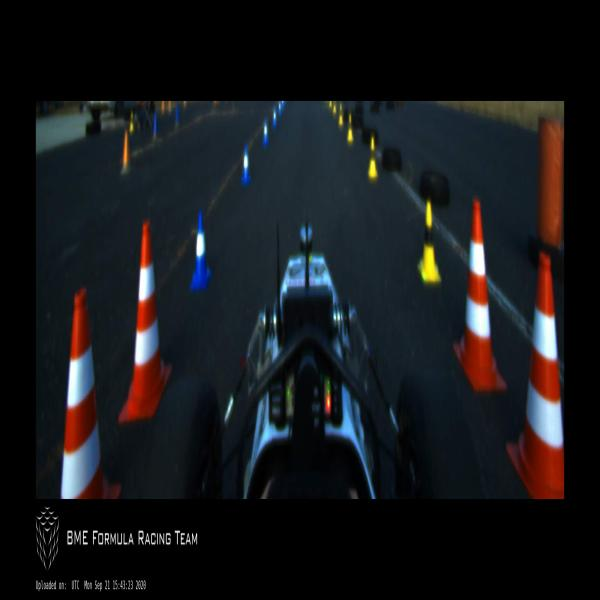blue_cone: (190, 209, 212, 290), (241, 144, 250, 186), (262, 118, 268, 144), (272, 109, 278, 128), (278, 101, 282, 115)
large_orange_cone: (506, 254, 564, 498), (61, 288, 121, 498), (453, 200, 508, 392), (119, 223, 172, 422)
unknown_cone: (120, 130, 132, 176), (152, 110, 160, 142), (175, 103, 179, 128)
yellow_cone: (417, 202, 442, 283), (367, 136, 378, 180), (347, 113, 354, 143), (338, 104, 344, 127), (332, 101, 336, 115)
